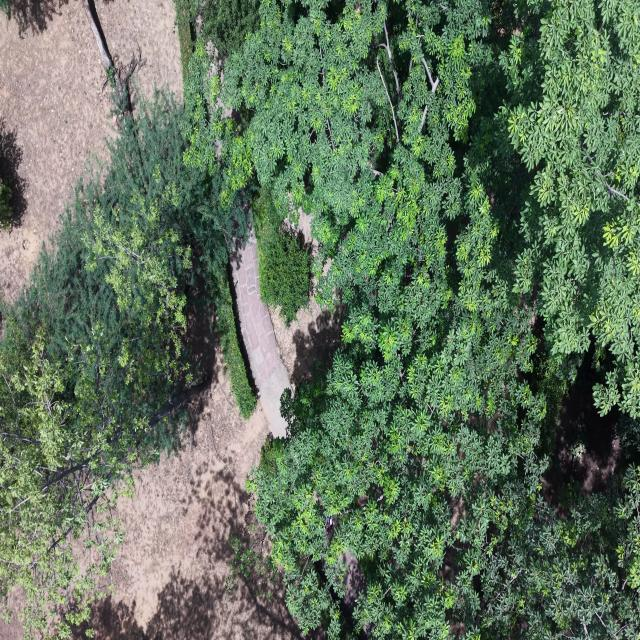DRY_AREA: (94, 238, 343, 639), (93, 270, 343, 639), (141, 234, 341, 639), (92, 364, 299, 639), (92, 369, 301, 639), (92, 369, 299, 639), (93, 370, 300, 639), (115, 378, 268, 623), (0, 0, 114, 301), (231, 230, 341, 437), (232, 232, 343, 437), (234, 243, 344, 417), (542, 355, 624, 518), (232, 233, 280, 389), (270, 297, 344, 386), (270, 299, 344, 387), (0, 590, 22, 639)
PATHWAYS: (233, 232, 289, 437)
VEGETATION_TREE: (0, 0, 639, 639), (187, 0, 639, 638), (0, 95, 247, 637), (503, 2, 639, 418), (0, 319, 154, 637), (252, 193, 312, 326), (83, 0, 145, 115), (175, 0, 259, 76), (217, 271, 256, 419), (193, 0, 259, 58), (225, 530, 277, 600), (174, 0, 196, 77), (0, 177, 12, 228), (0, 0, 8, 14)
